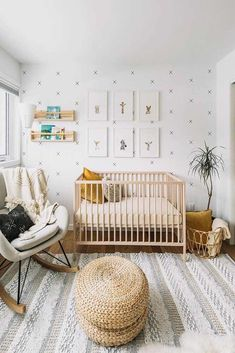crib: (73, 170, 186, 256)
